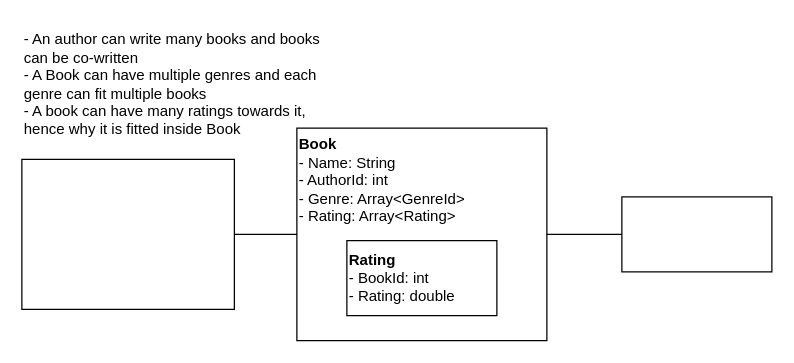
Some shapes in this 794 by 363 pixel diagram are drawn without their labels. Here are the shapes that lost their labels. From the top down, the box of each, then its label:
(21, 158, 234, 309): Author - Name: String - Books: Array<Book>
(621, 196, 772, 272): Genre - GenreId: int - Genre: String
